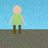person: (9, 6, 25, 33)
